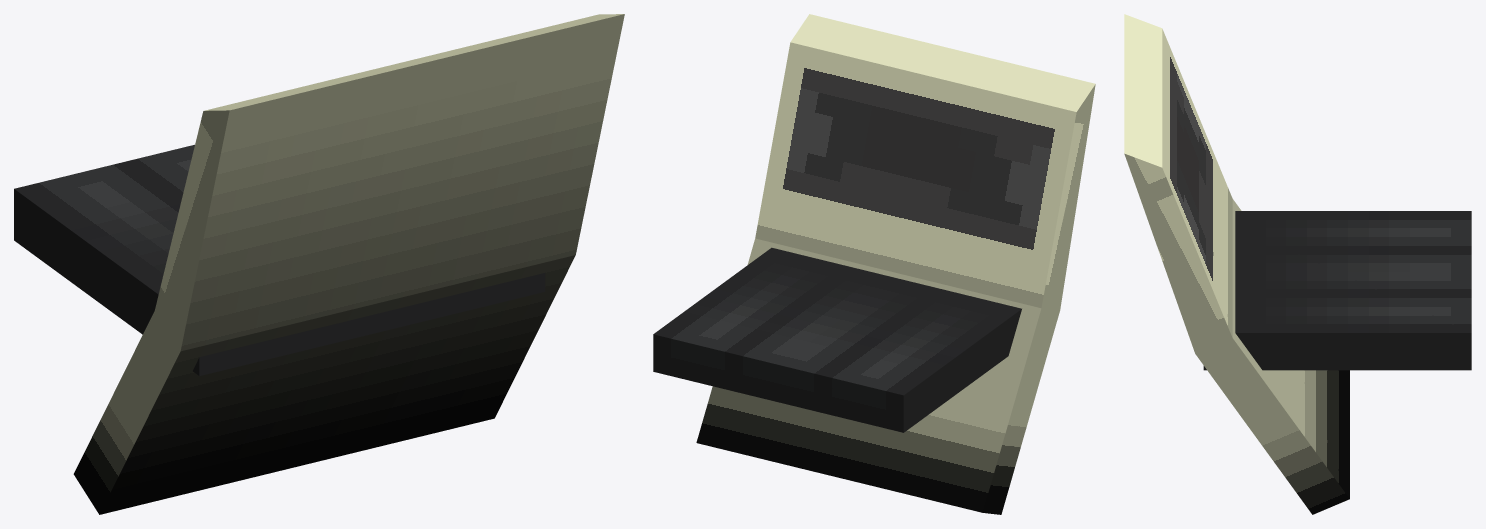
Rendered from chear.fbx.
3 renders of one model, left to right at view 1: azimuth 30°, elevation 25°; view 2: azimuth 150°, elevation 25°; view 3: azimuth 270°, elevation 25°, orthographic. The views are drawn at different scales.
Parts seen in each view (by area): view 1: cuboid; view 2: cuboid; view 3: cuboid.
Part boxes in pixels (left/top/right/bottom): cuboid: left=14, top=14, right=624, bottom=514; cuboid: left=653, top=14, right=1095, bottom=514; cuboid: left=1124, top=14, right=1471, bottom=514.
Bounding box in the file's own units: 100 × 121 × 105.
1 material, 1 textured.
